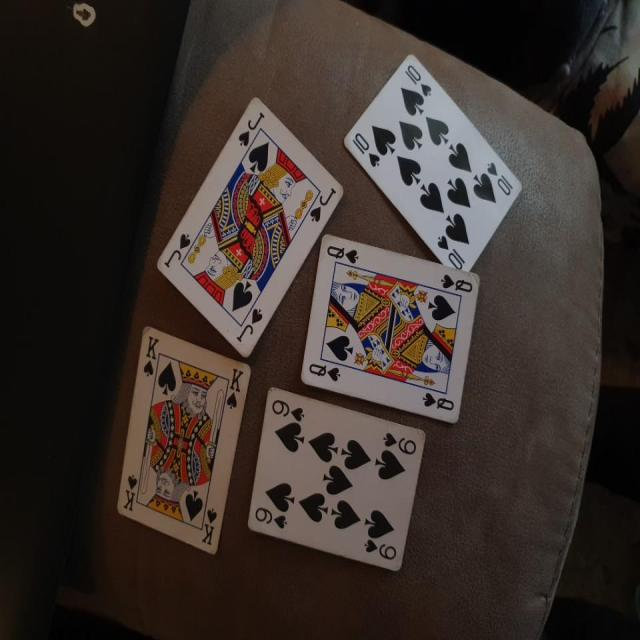10 Spades: (336, 46, 528, 273)
9 Spades: (247, 381, 430, 578)
J Spades: (146, 96, 344, 367)
K Spades: (109, 325, 255, 571)
Q Spades: (302, 228, 483, 428)
